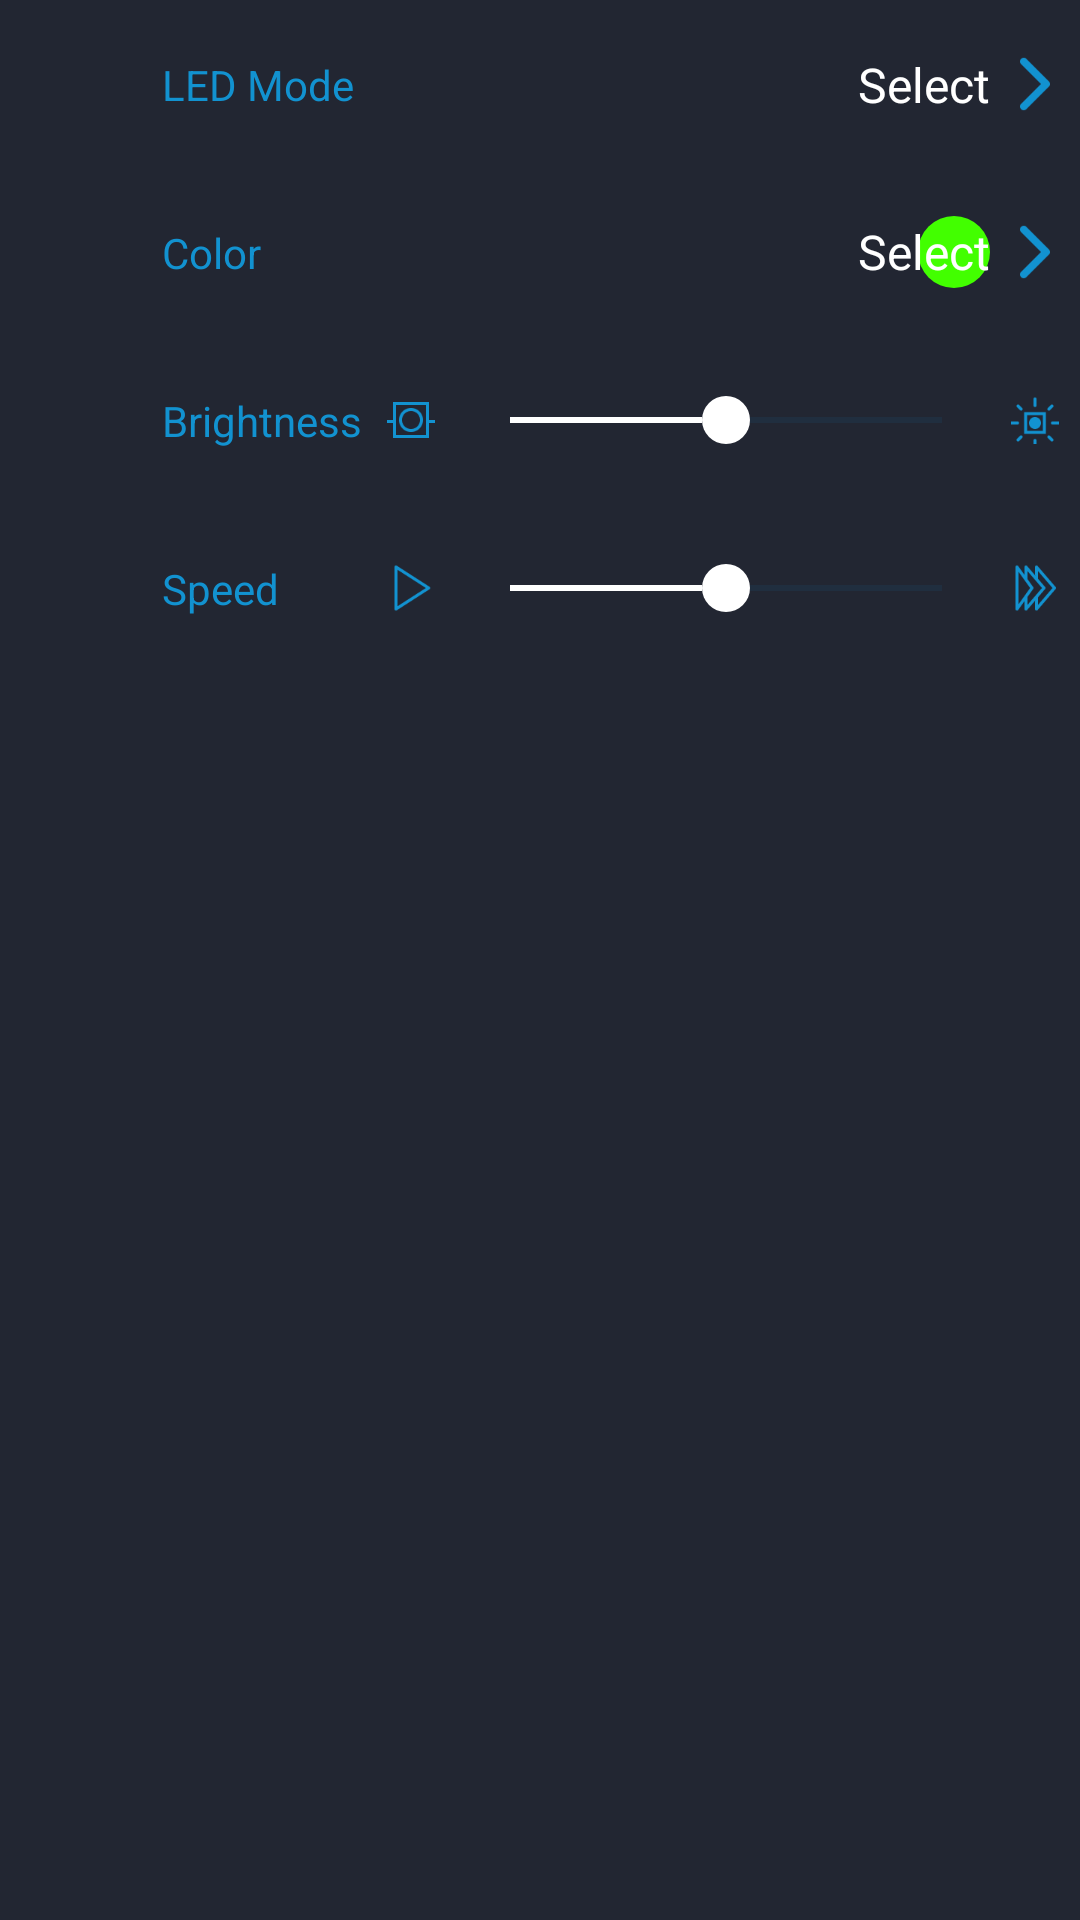

Icons on this 1080x1920 Android screen, each with its box as (x1=x1, y1=y1, x2=x2, y2=y2):
brightness up: (x1=1011, y1=397, x2=1059, y2=444)
right arrow null display: (x1=1020, y1=57, x2=1050, y2=111), (x1=1020, y1=225, x2=1050, y2=279)
speed up: (x1=1015, y1=565, x2=1056, y2=611)
